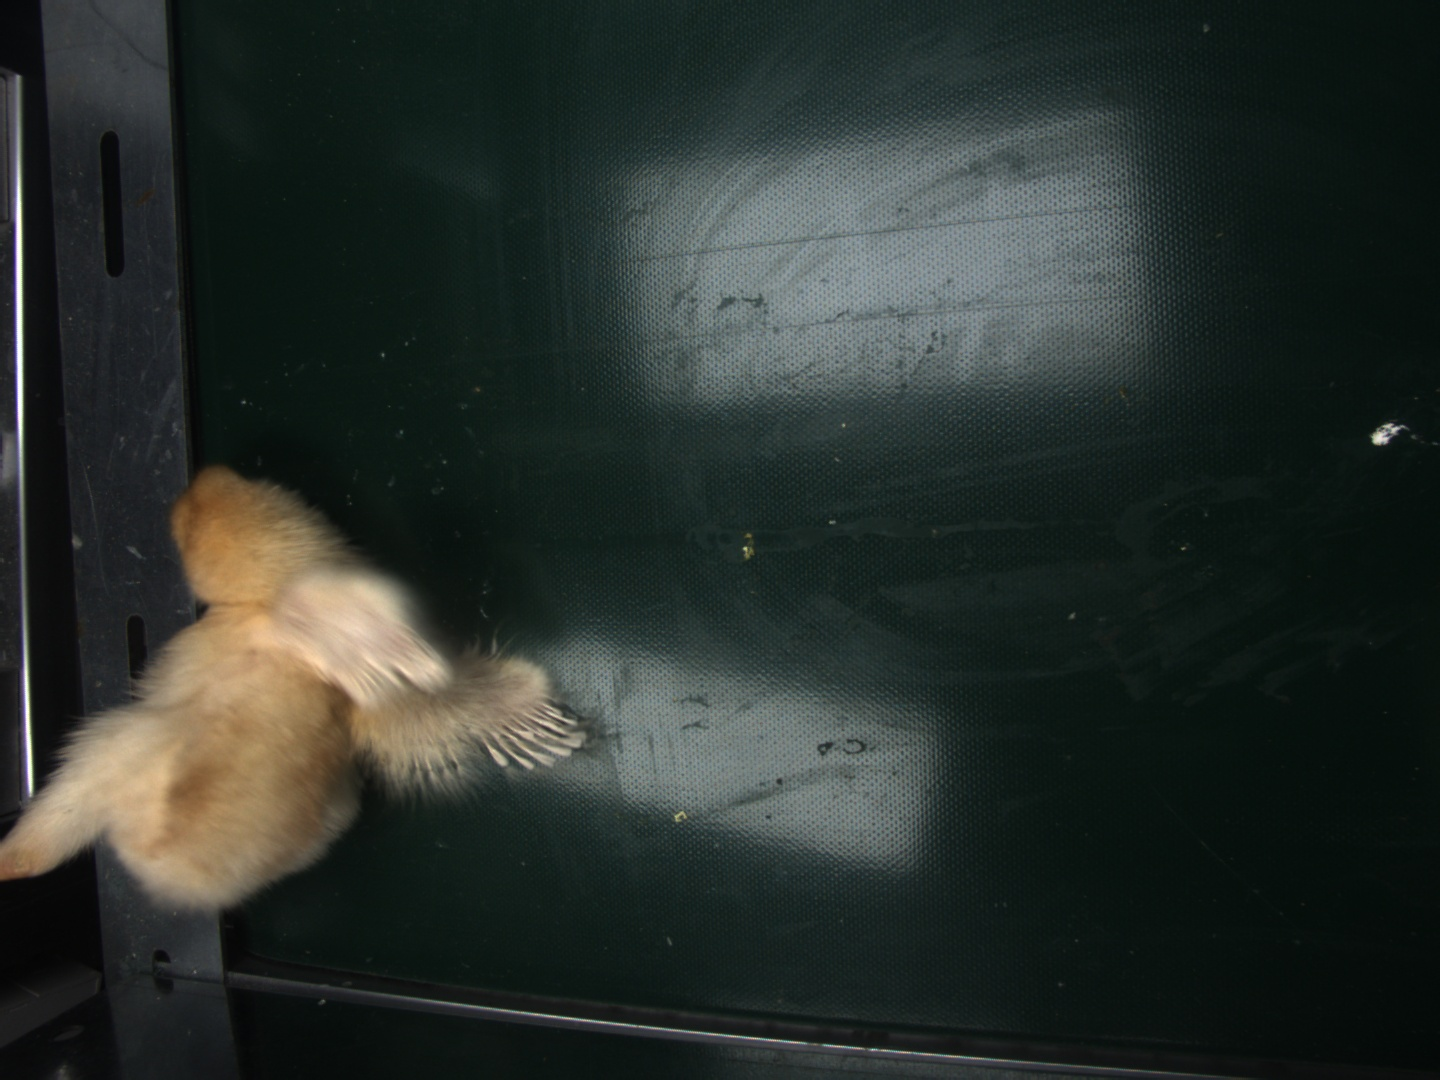female: (485, 697, 570, 763)
